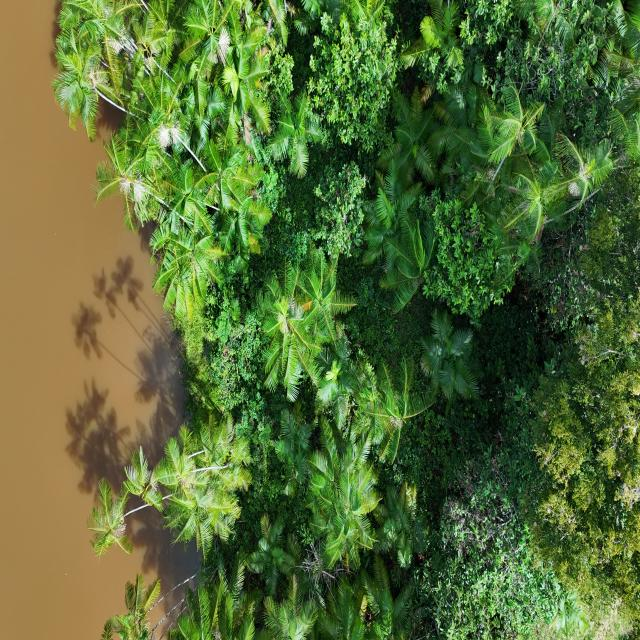vegetation: (51, 1, 638, 638)
